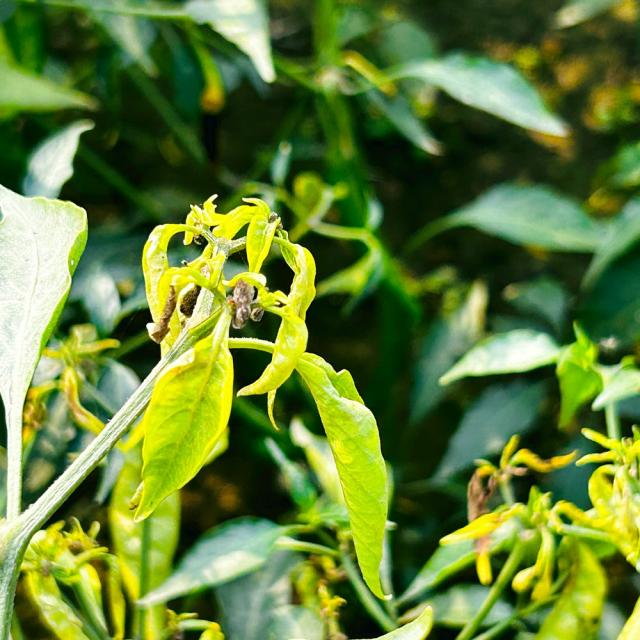Chilli_Leaf_Curl: (1, 1, 638, 638), (127, 192, 392, 602), (140, 193, 318, 430), (0, 181, 88, 521), (294, 350, 392, 601), (127, 300, 235, 524), (233, 234, 317, 430)
